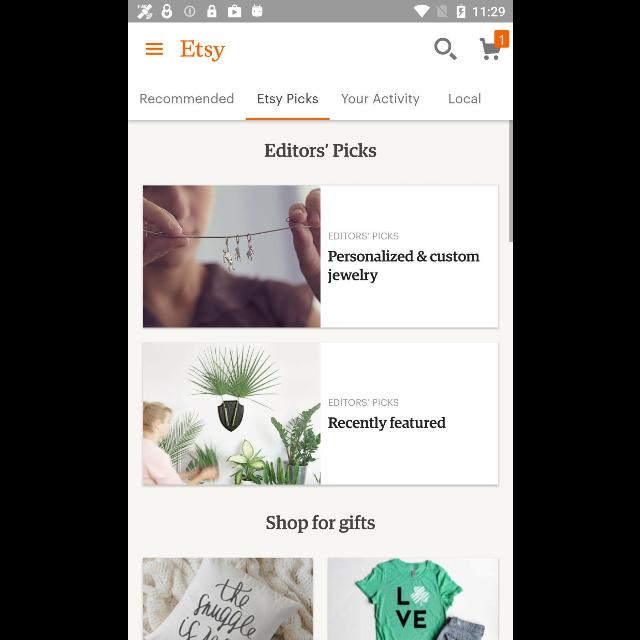icon: (479, 30, 509, 60), (434, 38, 456, 61), (145, 42, 163, 56)
image: (142, 342, 320, 484), (143, 186, 320, 326), (327, 558, 497, 640), (142, 558, 312, 640)
panel: (141, 342, 497, 484)
text: (327, 250, 479, 284), (266, 515, 374, 533), (264, 142, 376, 158), (328, 417, 446, 431), (140, 94, 232, 105), (180, 40, 224, 62), (340, 94, 418, 106), (257, 94, 317, 106), (328, 398, 398, 406), (328, 232, 398, 240), (448, 94, 479, 105)
uppertaskbar: (128, 1, 512, 23)
